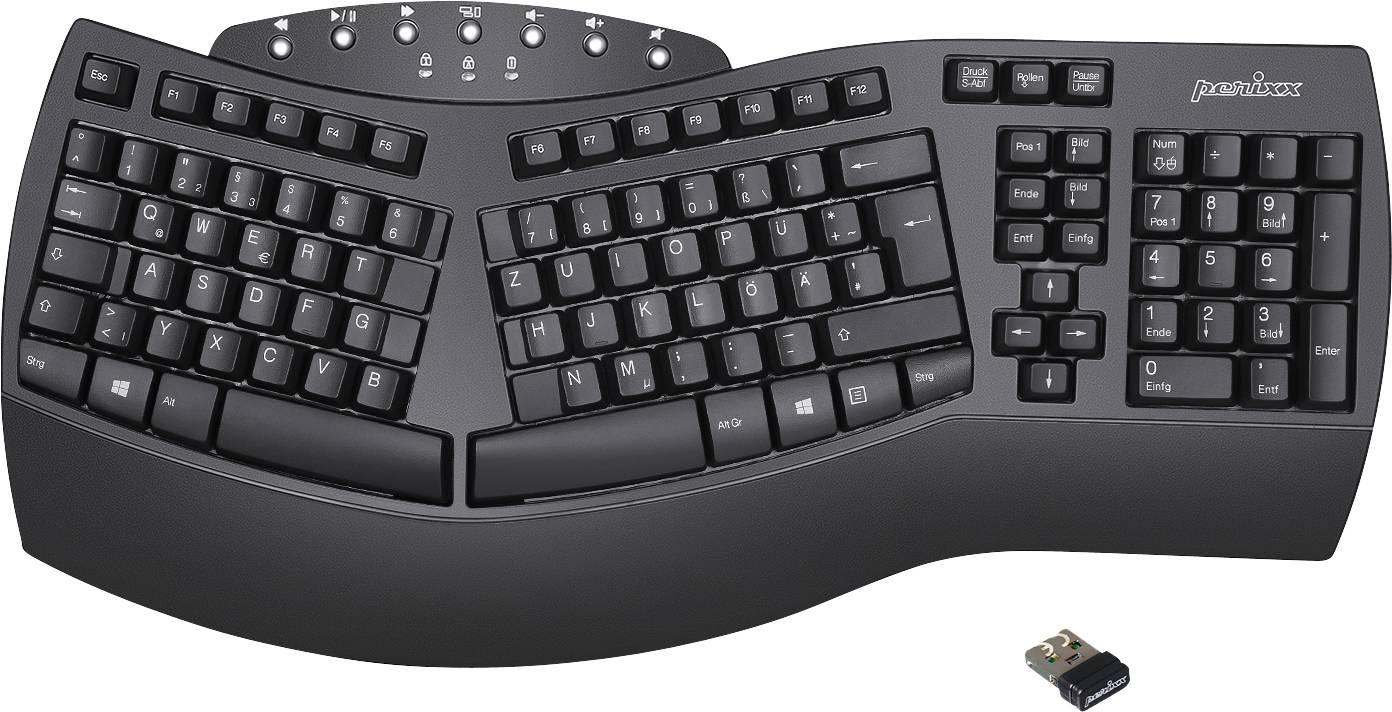0: (673, 167, 718, 219)
1: (114, 134, 157, 182)
2: (167, 146, 210, 196)
3: (220, 160, 262, 209)
4: (272, 172, 316, 220)
5: (325, 185, 370, 233)
6: (377, 197, 421, 246)
7: (513, 199, 558, 249)
8: (567, 188, 612, 239)
9: (620, 179, 665, 228)
a: (130, 248, 174, 297)
accent: (781, 148, 824, 196)
ae: (786, 256, 830, 304)
alt-left: (146, 366, 218, 441)
altgr-right: (700, 381, 769, 460)
b: (353, 358, 398, 408)
c: (248, 334, 294, 383)
caret: (61, 122, 105, 170)
comma: (663, 336, 707, 384)
d: (235, 275, 279, 324)
del: (836, 126, 931, 185)
e: (235, 218, 278, 267)
enter: (870, 181, 951, 285)
f: (289, 287, 332, 335)
g: (341, 300, 385, 349)
h: (520, 307, 563, 356)
hash: (839, 247, 883, 296)
i: (605, 237, 647, 284)
j: (574, 297, 617, 346)
k: (628, 287, 671, 335)
keyboard: (3, 23, 1388, 551)
l: (682, 277, 723, 324)
less: (90, 296, 135, 346)
m: (610, 346, 654, 394)
minus: (770, 316, 813, 363)
n: (560, 359, 602, 408)
o: (657, 227, 700, 274)
oe: (733, 267, 776, 314)
p: (710, 216, 753, 264)
plus: (816, 195, 860, 245)
point: (715, 326, 760, 375)
q: (129, 193, 174, 242)
r: (287, 232, 330, 279)
s: (182, 263, 226, 311)
shift-left: (23, 281, 84, 333)
shift-lock: (38, 227, 112, 284)
shift-right: (822, 289, 961, 352)
space: (215, 384, 448, 499), (471, 391, 703, 500)
ss: (727, 159, 771, 208)
strg-left: (13, 335, 86, 398)
strg-right: (900, 344, 972, 402)
t: (340, 243, 383, 292)
tab: (50, 175, 120, 229)
u: (550, 246, 593, 295)
ue: (764, 207, 806, 255)
v: (301, 346, 346, 396)
w: (182, 206, 225, 254)
x: (196, 321, 240, 370)
y: (143, 309, 187, 358)
z: (498, 256, 539, 305)
